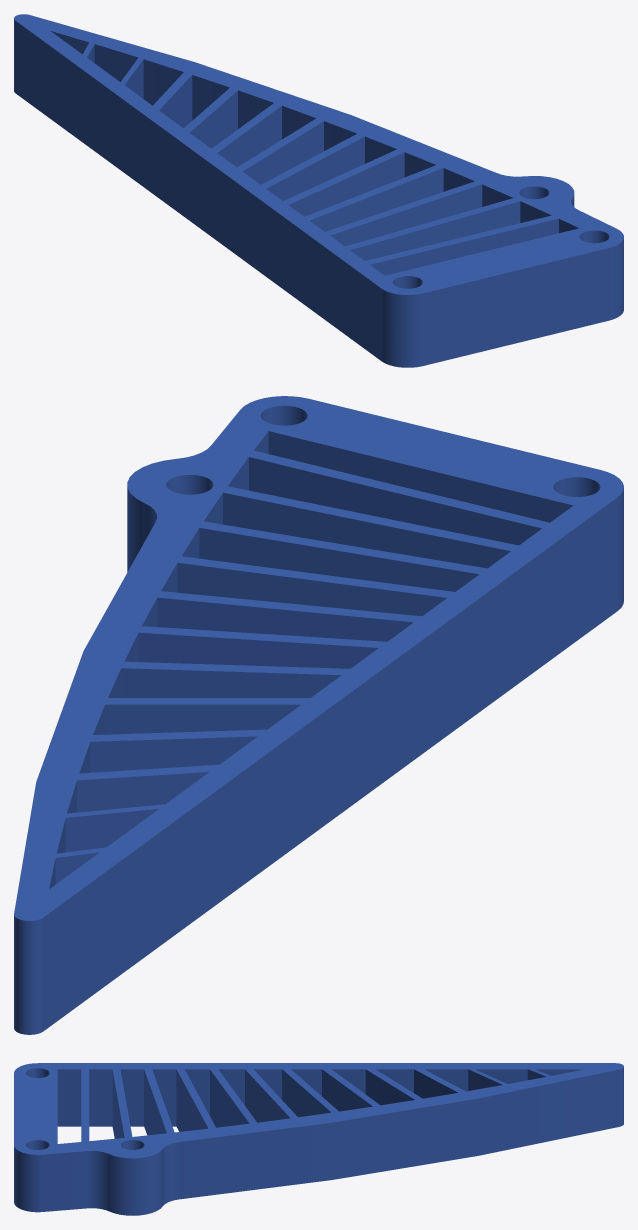
File: soft_gripper_finger.obj
3 renders of one model, top to bottom at view 1: azimuth 30°, elevation 25°; view 2: azimuth 150°, elevation 25°; view 3: azimuth 270°, elevation 25°, orthographic. The views are drawn at different scales.
Parts seen in each view (by area): view 1: mesh1571, mesh1622, mesh1621, mesh1578, mesh1631, mesh1582, mesh1573, mesh1586, mesh1590, mesh1594, mesh1598, mesh1602 (+9 smaller); view 2: mesh1571, mesh1622, mesh1572, mesh1577, mesh1581, mesh1626, mesh1585, mesh1589, mesh1593, mesh1597, mesh1601, mesh1605 (+4 smaller); view 3: mesh1623, mesh1571, mesh1624, mesh1627, mesh1630, mesh1625, mesh1576, mesh1629, mesh1594, mesh1590, mesh1598, mesh1580 (+18 smaller).
Part boxes in pixels (x1=…): mesh1571: x1=14, y1=14, x2=623, y2=294; mesh1622: x1=15, y1=21, x2=381, y2=360; mesh1621: x1=423, y1=248, x2=608, y2=365; mesh1578: x1=350, y1=201, x2=520, y2=260; mesh1631: x1=381, y1=289, x2=422, y2=367; mesh1582: x1=330, y1=184, x2=482, y2=246; mesh1573: x1=370, y1=218, x2=558, y2=275; mesh1586: x1=310, y1=168, x2=443, y2=231; mesh1590: x1=288, y1=152, x2=404, y2=216; mesh1594: x1=266, y1=136, x2=364, y2=200; mesh1598: x1=243, y1=121, x2=323, y2=184; mesh1602: x1=217, y1=106, x2=281, y2=167; mesh1571: x1=14, y1=396, x2=623, y2=920; mesh1622: x1=43, y1=497, x2=617, y2=1031; mesh1572: x1=249, y1=457, x2=541, y2=545; mesh1577: x1=223, y1=492, x2=510, y2=568; mesh1581: x1=199, y1=528, x2=478, y2=591; mesh1626: x1=268, y1=431, x2=573, y2=522; mesh1585: x1=177, y1=563, x2=446, y2=616; mesh1589: x1=157, y1=597, x2=413, y2=641; mesh1593: x1=138, y1=632, x2=378, y2=668; mesh1597: x1=121, y1=668, x2=340, y2=697; mesh1601: x1=105, y1=704, x2=300, y2=734; mesh1605: x1=90, y1=736, x2=257, y2=772; mesh1623: x1=180, y1=1069, x2=619, y2=1199; mesh1571: x1=14, y1=1063, x2=623, y2=1158; mesh1624: x1=109, y1=1149, x2=162, y2=1215; mesh1627: x1=42, y1=1151, x2=86, y2=1211; mesh1630: x1=14, y1=1146, x2=41, y2=1212; mesh1625: x1=57, y1=1069, x2=81, y2=1126; mesh1576: x1=89, y1=1069, x2=112, y2=1126; mesh1629: x1=87, y1=1151, x2=109, y2=1211; mesh1594: x1=245, y1=1069, x2=289, y2=1122; mesh1590: x1=210, y1=1070, x2=249, y2=1127; mesh1598: x1=282, y1=1069, x2=330, y2=1117; mesh1580: x1=120, y1=1069, x2=143, y2=1126.
Size of the model in its own units: 0.0285 by 0.008 by 0.0771.
